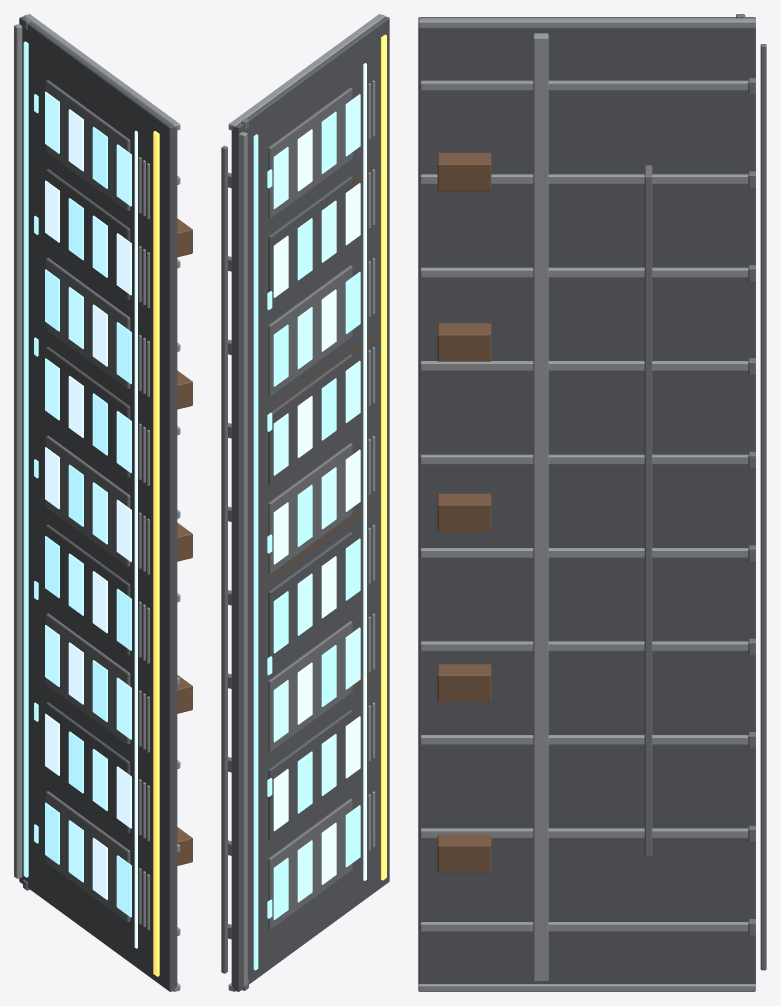
File: wall_ribbon_yard_r.glb
3 renders of one model, left to right at view 1: azimuth 30°, elevation 25°; view 2: azimuth 150°, elevation 25°; view 3: azimuth 270°, elevation 25°, orthographic. The views are drawn at different scales.
Parts seen in each view (by area): view 1: WallRibbon_yard_R; view 2: WallRibbon_yard_R; view 3: WallRibbon_yard_R.
Part boxes in pixels (bbox=[...]): WallRibbon_yard_R: bbox=[14, 14, 192, 991]; WallRibbon_yard_R: bbox=[221, 14, 389, 991]; WallRibbon_yard_R: bbox=[418, 14, 766, 991].
Size of the model in its own units: 0.675 by 14 by 4.54.
